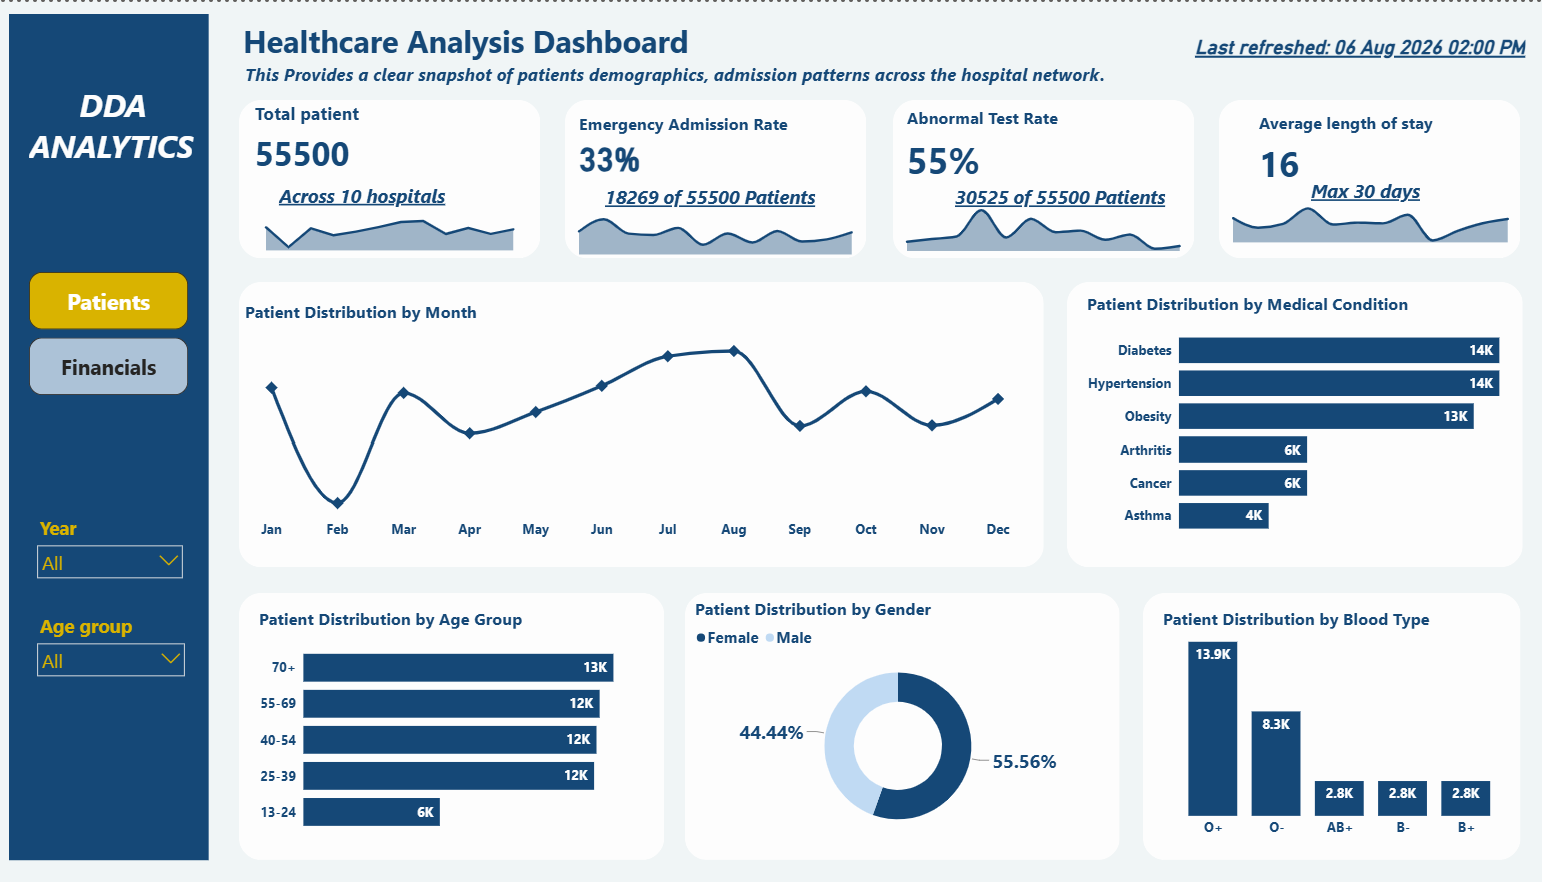

This screenshot's page, from the dashboard's own definition file:
{"tool":"powerbi","page":{"name":"Patients","canvas":[1920,1080],"ordinal":0},"visuals":[{"type":"shape","box":[15.4,15.4,243.6,1030.8],"z":0},{"type":"shape","box":[295.3,118.6,367.4,193],"z":1000},{"type":"shape","box":[693,118.6,367.4,193],"z":2000},{"type":"shape","box":[1093,118.6,367.4,193],"z":3000},{"type":"shape","box":[1490.7,118.6,367.4,193],"z":4000},{"type":"textbox","box":[295.3,16.3,904.7,88.4],"z":5000},{"type":"shape","box":[295.3,341.9,981.4,346.5],"z":6000},{"type":"shape","box":[1304.7,341.9,555.8,346.5],"z":7000},{"type":"shape","box":[295.3,718.6,518.6,325.6],"z":8000},{"type":"shape","box":[839.5,718.6,530.2,325.6],"z":9000},{"type":"shape","box":[1397.7,718.6,460.5,325.6],"z":10000},{"type":"lineChart","title":"Patient Distribution by Month","fields":{"Y":["CountNonNull(Table1.Patient ID)"],"Category":["Date.Month"]},"box":[297.7,362.8,960.5,300],"z":11000},{"type":"barChart","title":"Patient Distribution by Medical Condition","fields":{"Category":["Table1.Medical Condition"],"Y":["CountNonNull(Table1.Patient ID)"]},"box":[1323.3,353.5,516.3,309.3],"z":12000},{"type":"barChart","title":"Patient Distribution by Age Group","fields":{"Category":["Table1.Age group"],"Y":["CountNonNull(Table1.Patient ID)"]},"box":[314,737.2,472.1,290.7],"z":13000},{"type":"donutChart","title":"Patient Distribution by Gender","fields":{"Category":["Table1.Gender"],"Y":["CountNonNull(Table1.Patient ID)"]},"box":[846.5,725.6,504.7,302.3],"z":14000},{"type":"columnChart","title":"Patient Distribution by Blood Type","fields":{"Category":["Table1.Blood Type"],"Y":["CountNonNull(Table1.Patient ID)"]},"box":[1416.3,737.2,441.9,290.7],"z":15000},{"type":"cardVisual","fields":{"Data":["Table1.Total patient"]},"box":[297.7,88.4,427.9,155.8],"z":16000},{"type":"areaChart","fields":{"Category":["calender.Month"],"Y":["Table1.Total patient"]},"box":[312.8,243.6,333.3,64.1],"z":17000},{"type":"slicer","fields":{"Values":["calender.Year"]},"box":[38.5,620.5,197.4,97.4],"z":18000},{"type":"slicer","fields":{"Values":["Table1.Age group"]},"box":[38.5,738.5,200,84.6],"z":19000},{"type":"pageNavigator","box":[38.5,328.2,194.9,151.3],"z":20000},{"type":"textbox","box":[297.4,69.2,1225.6,48.7],"z":21000},{"type":"cardVisual","fields":{"Data":["Table1.Average length of stay"]},"box":[1522.7,93.2,304.5,172.7],"z":22000},{"type":"cardVisual","fields":{"Data":["All Dax Measures.Emergency Admission Rate"]},"box":[693.2,88.6,304.5,172.7],"z":23000},{"type":"cardVisual","fields":{"Data":["All Dax Measures.Abnormal Test Rate"]},"box":[1093.2,88.6,304.5,172.7],"z":24000},{"type":"cardVisual","fields":{"Data":["All Dax Measures.Avg Length of Stay Subtitle 2"]},"box":[1584.6,117.9,276.9,217.9],"z":25000},{"type":"cardVisual","fields":{"Data":["All Dax Measures.Abnormal Test Rate Subtitle"]},"box":[1150,138.6,400,188.6],"z":26000},{"type":"cardVisual","fields":{"Data":["All Dax Measures.Emergency Admission Rate Subtitle"]},"box":[725,138.6,400,188.6],"z":27000},{"type":"cardVisual","fields":{"Data":["All Dax Measures.Total Patients Subtitle"]},"box":[325.6,135.9,400,189.7],"z":28000},{"type":"areaChart","fields":{"Category":["calender.Month"],"Y":["All Dax Measures.Emergency Admission Rate"]},"box":[692.3,243.6,366.7,69.2],"z":29000},{"type":"areaChart","fields":{"Category":["calender.Month"],"Y":["All Dax Measures.Abnormal Test Rate"]},"box":[1092.3,230.8,366.7,76.9],"z":30000},{"type":"areaChart","fields":{"Category":["calender.Month"],"Y":["Table1.Average length of stay"]},"box":[1489.7,233.3,369.2,64.1],"z":31000},{"type":"cardVisual","fields":{"Data":["All Dax Measures.Last Seen"]},"box":[1443.6,0,446.2,102.6],"z":32000},{"type":"textbox","box":[33.3,94.9,279.5,207.7],"z":33000}]}

Visuals, with their boxes in screenshot pixels (x1, y1, x2, y2), scaled from the page's 1920x1080 canvas onto the 1542x882 screenshot:
shape: pyautogui.locateOnScreen(12, 13, 208, 854)
shape: pyautogui.locateOnScreen(237, 97, 532, 254)
shape: pyautogui.locateOnScreen(557, 97, 852, 254)
shape: pyautogui.locateOnScreen(878, 97, 1173, 254)
shape: pyautogui.locateOnScreen(1197, 97, 1492, 254)
textbox: pyautogui.locateOnScreen(237, 13, 964, 86)
shape: pyautogui.locateOnScreen(237, 279, 1025, 562)
shape: pyautogui.locateOnScreen(1048, 279, 1494, 562)
shape: pyautogui.locateOnScreen(237, 587, 654, 853)
shape: pyautogui.locateOnScreen(674, 587, 1100, 853)
shape: pyautogui.locateOnScreen(1123, 587, 1492, 853)
"Patient Distribution by Month" lineChart: pyautogui.locateOnScreen(239, 296, 1010, 541)
"Patient Distribution by Medical Condition" barChart: pyautogui.locateOnScreen(1063, 289, 1477, 541)
"Patient Distribution by Age Group" barChart: pyautogui.locateOnScreen(252, 602, 631, 839)
"Patient Distribution by Gender" donutChart: pyautogui.locateOnScreen(680, 593, 1085, 839)
"Patient Distribution by Blood Type" columnChart: pyautogui.locateOnScreen(1137, 602, 1492, 839)
cardVisual - Table1.Total patient: pyautogui.locateOnScreen(239, 72, 583, 199)
areaChart - calender.Month x Table1.Total patient: pyautogui.locateOnScreen(251, 199, 519, 251)
slicer - calender.Year: pyautogui.locateOnScreen(31, 507, 189, 586)
slicer - Table1.Age group: pyautogui.locateOnScreen(31, 603, 192, 672)
pageNavigator: pyautogui.locateOnScreen(31, 268, 187, 392)
textbox: pyautogui.locateOnScreen(239, 57, 1223, 96)
cardVisual - Table1.Average length of stay: pyautogui.locateOnScreen(1223, 76, 1467, 217)
cardVisual - All Dax Measures.Emergency Admission Rate: pyautogui.locateOnScreen(557, 72, 801, 213)
cardVisual - All Dax Measures.Abnormal Test Rate: pyautogui.locateOnScreen(878, 72, 1123, 213)
cardVisual - All Dax Measures.Avg Length of Stay Subtitle 2: pyautogui.locateOnScreen(1273, 96, 1495, 274)
cardVisual - All Dax Measures.Abnormal Test Rate Subtitle: pyautogui.locateOnScreen(924, 113, 1245, 267)
cardVisual - All Dax Measures.Emergency Admission Rate Subtitle: pyautogui.locateOnScreen(582, 113, 904, 267)
cardVisual - All Dax Measures.Total Patients Subtitle: pyautogui.locateOnScreen(261, 111, 583, 266)
areaChart - calender.Month x All Dax Measures.Emergency Admission Rate: pyautogui.locateOnScreen(556, 199, 851, 255)
areaChart - calender.Month x All Dax Measures.Abnormal Test Rate: pyautogui.locateOnScreen(877, 188, 1172, 251)
areaChart - calender.Month x Table1.Average length of stay: pyautogui.locateOnScreen(1196, 191, 1493, 243)
cardVisual - All Dax Measures.Last Seen: pyautogui.locateOnScreen(1159, 0, 1518, 84)
textbox: pyautogui.locateOnScreen(27, 78, 251, 247)
